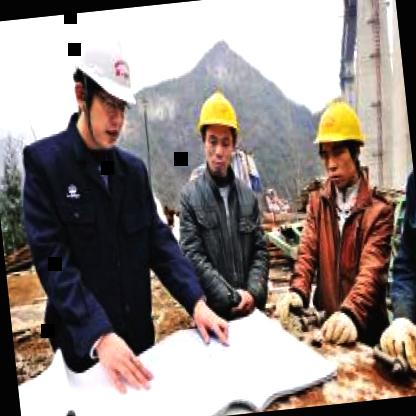helmet: (55, 7, 147, 153), (305, 84, 373, 199), (192, 84, 248, 180)
